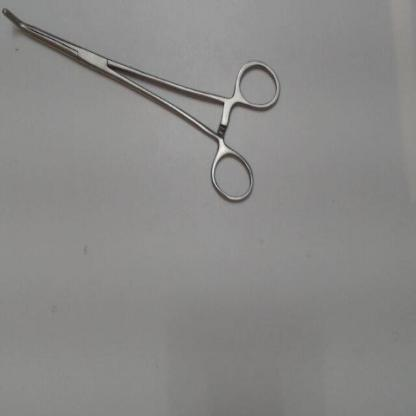Lahey Forceps: (2, 3, 287, 210)
